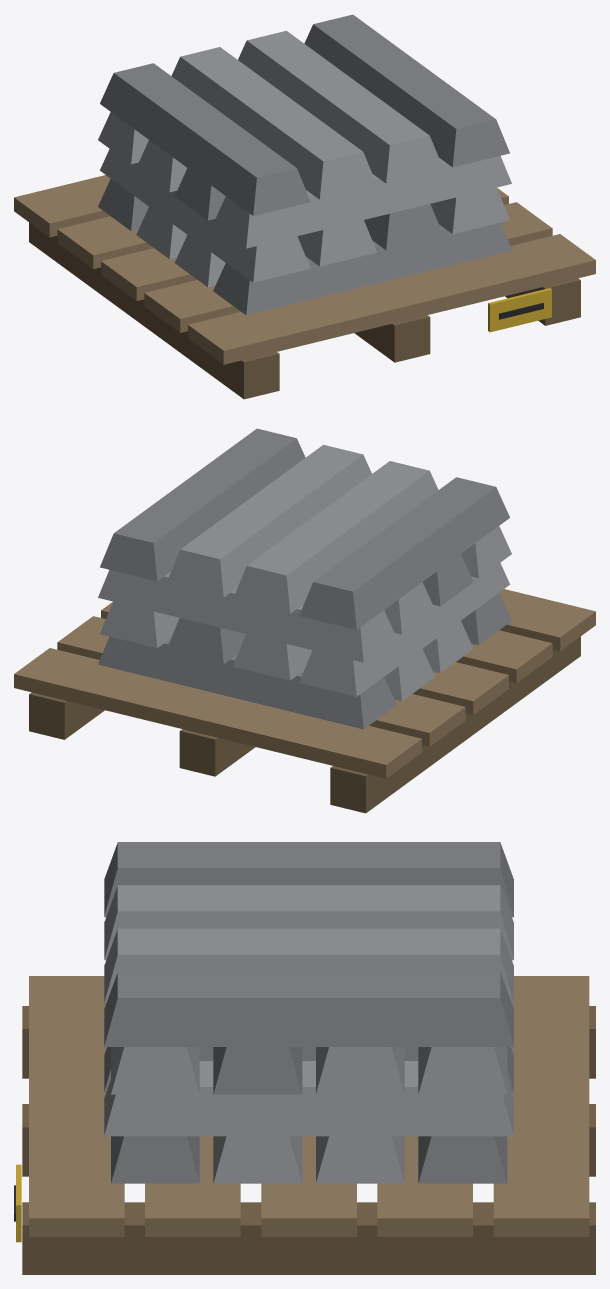
File: material_pile_iron.glb
3 renders of one model, top to bottom at view 1: azimuth 30°, elevation 25°; view 2: azimuth 150°, elevation 25°; view 3: azimuth 270°, elevation 25°, orthographic. The views are drawn at different scales.
Visible parts, largest first — view 1: iron_base, iron_piece_13, iron_piece_14, iron_piece_15, iron_piece_16, iron_piece_01, iron_piece_09, iron_piece_05, iron_piece_06, iron_piece_08, iron_piece_07, iron_piece_10 (+5 smaller); view 2: iron_base, iron_piece_13, iron_piece_14, iron_piece_15, iron_piece_16, iron_piece_04, iron_piece_12, iron_piece_05, iron_piece_06, iron_piece_08, iron_piece_07, iron_piece_10 (+5 smaller); view 3: iron_base, iron_piece_16, iron_piece_08, iron_piece_15, iron_piece_14, iron_piece_13, iron_piece_02, iron_piece_04, iron_piece_10, iron_piece_12, iron_piece_01, iron_piece_03 (+3 smaller).
Boxes of the visible parts, box(x1,y1,x2,y2) form: iron_base: box(14, 175, 595, 399); iron_piece_13: box(100, 63, 310, 215); iron_piece_14: box(171, 47, 377, 199); iron_piece_15: box(238, 30, 443, 183); iron_piece_16: box(304, 14, 509, 167); iron_piece_01: box(213, 222, 511, 315); iron_piece_09: box(213, 156, 511, 248); iron_piece_05: box(100, 149, 310, 282); iron_piece_06: box(297, 220, 376, 266); iron_piece_08: box(430, 187, 509, 233); iron_piece_07: box(364, 204, 443, 250); iron_piece_10: box(175, 168, 225, 220); iron_base: box(14, 589, 595, 813); iron_piece_13: box(299, 477, 509, 629); iron_piece_14: box(232, 461, 438, 613); iron_piece_15: box(166, 444, 371, 597); iron_piece_16: box(100, 428, 305, 581); iron_piece_04: box(98, 636, 396, 729); iron_piece_12: box(98, 570, 396, 662); iron_piece_05: box(299, 563, 509, 696); iron_piece_06: box(233, 634, 312, 680); iron_piece_08: box(100, 601, 179, 647); iron_piece_07: box(166, 618, 245, 664); iron_piece_10: box(422, 554, 473, 606); iron_base: box(14, 976, 595, 1274); iron_piece_16: box(104, 972, 513, 1046); iron_piece_08: box(104, 1061, 513, 1136); iron_piece_15: box(104, 928, 513, 1003); iron_piece_14: box(104, 885, 513, 960); iron_piece_13: box(104, 842, 513, 917); iron_piece_02: box(213, 1136, 302, 1183); iron_piece_04: box(418, 1136, 507, 1183); iron_piece_10: box(213, 1047, 302, 1094); iron_piece_12: box(418, 1047, 507, 1094); iron_piece_01: box(111, 1136, 199, 1183); iron_piece_03: box(316, 1136, 404, 1183).
Bounding box in the file's own units: 0.84 × 0.396 × 0.852.
